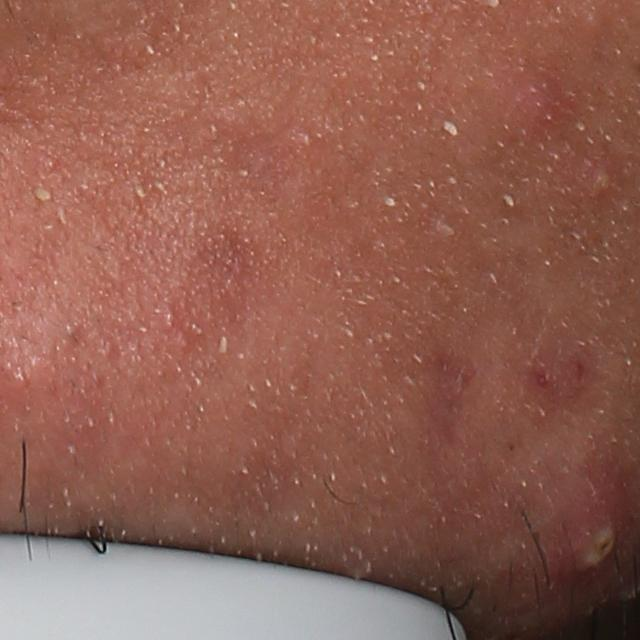atrophic_scar: (426, 332, 478, 462)
other: (436, 117, 463, 138), (31, 185, 54, 204), (381, 193, 400, 208)
papule: (481, 54, 573, 154)
pustule: (588, 160, 617, 202)
